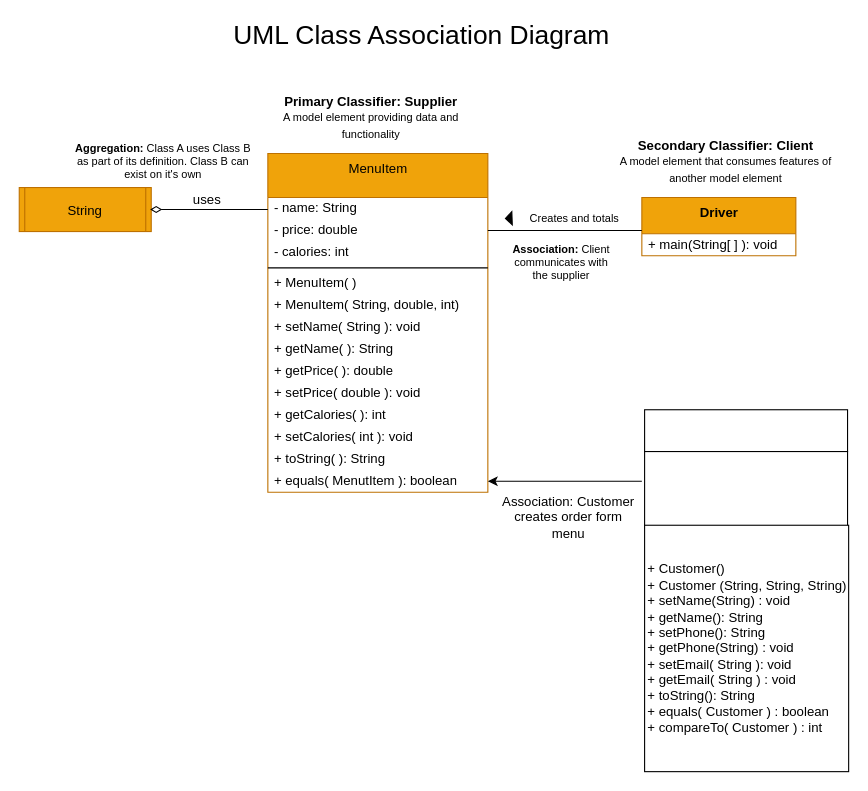
Image size: 868x791. Some labels were removed from this diagram. Here are the shapes that lost their labels. From the top down, the centre of each, then its label:
the point at 746,430: Customer
the point at 746,489: - name: String -email: String -phone: String
